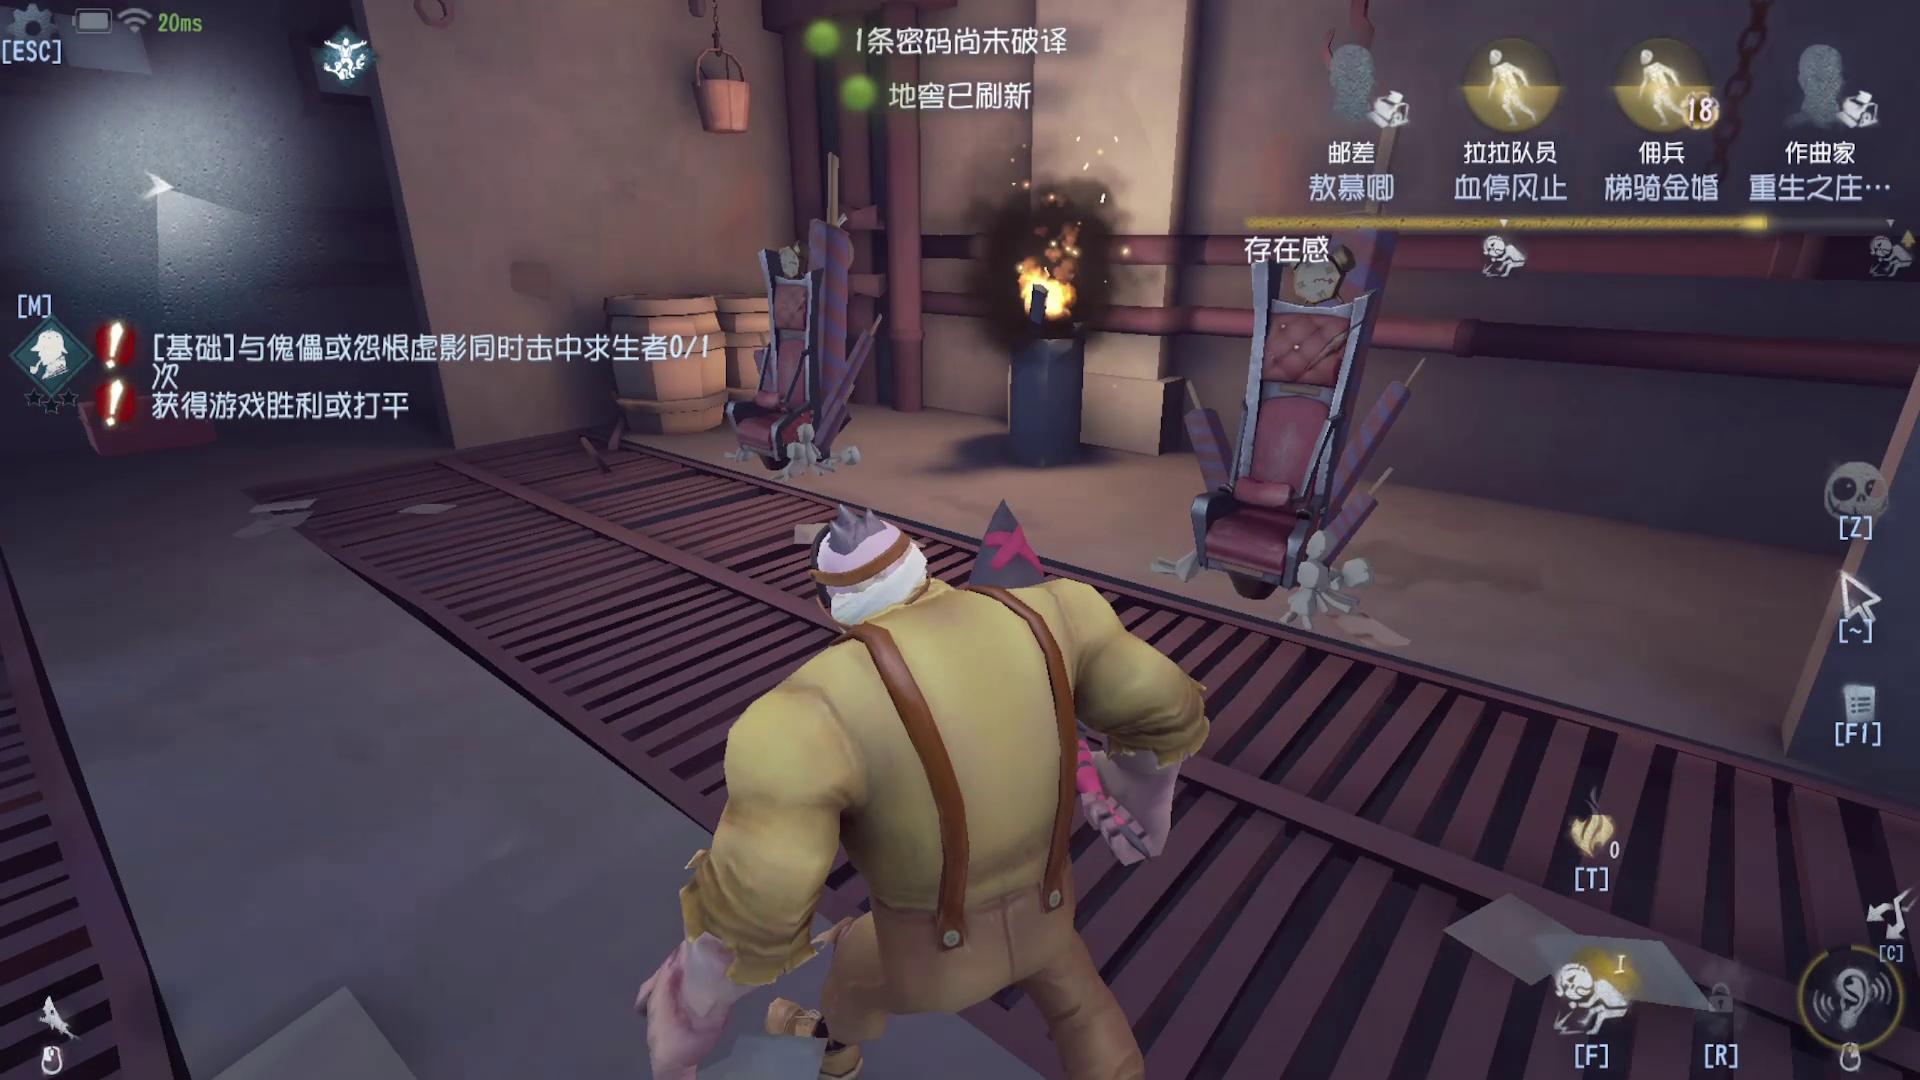狂欢之椅: (1151, 131, 1448, 617), (712, 160, 887, 491)
设置: (1, 1, 87, 76)
